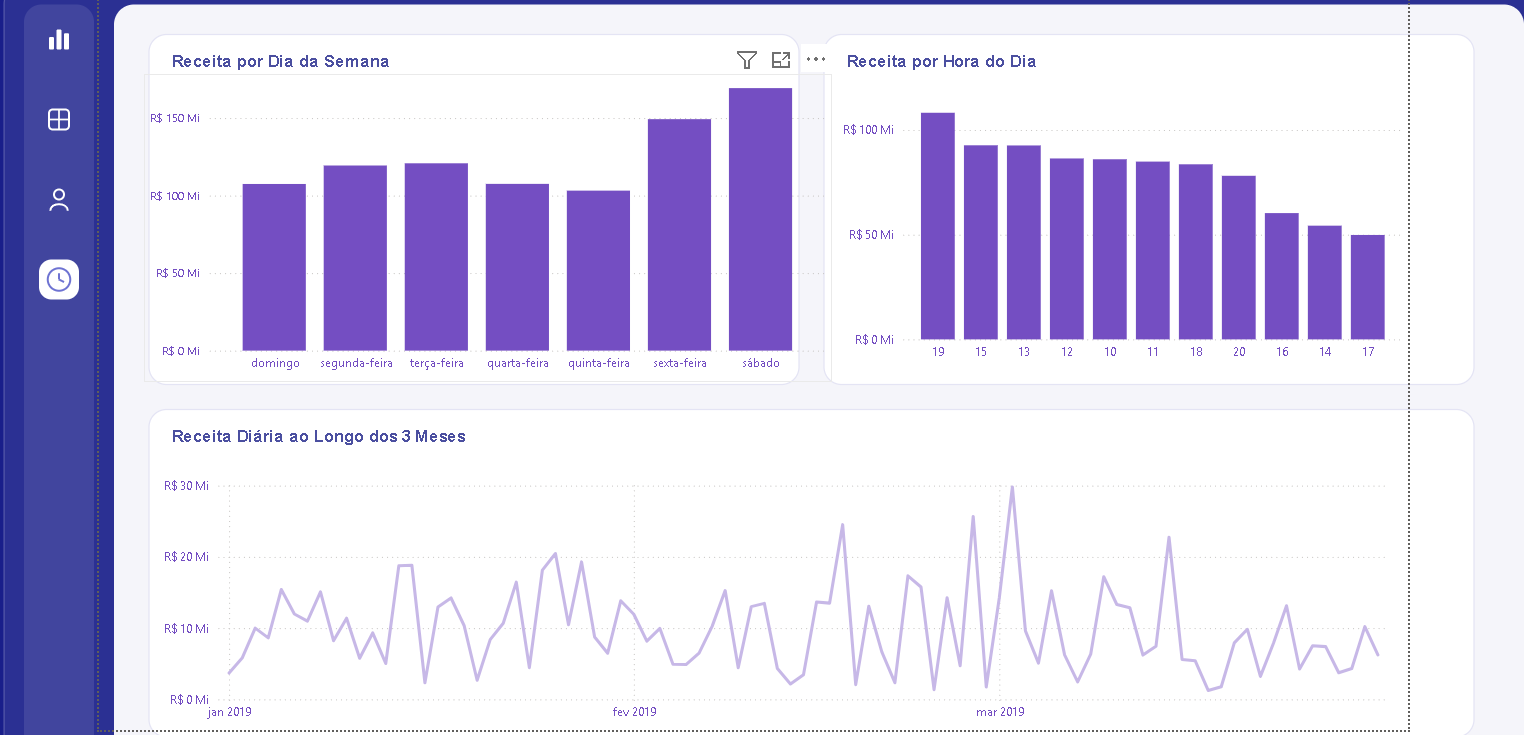

This screenshot's page, from the dashboard's own definition file:
{"tool":"powerbi","page":{"name":"Sazonalidade","canvas":[1280,720],"ordinal":3},"visuals":[{"type":"clusteredColumnChart","fields":{"Category":["SuperMarket Analysis.DiaSemana"],"Y":["Sum(SuperMarket Analysis.Sales)"]},"box":[44,78.3,672.6,300.8],"z":0},{"type":"clusteredColumnChart","fields":{"Category":["SuperMarket Analysis.Hora"],"Y":["Sum(SuperMarket Analysis.Sales)"]},"box":[721.5,78.3,558.8,289.8],"z":1000},{"type":"lineChart","fields":{"Category":["SuperMarket Analysis.Date.Variation.Hierarquia de datas.Ano","SuperMarket Analysis.Date.Variation.Hierarquia de datas.Trimestre","SuperMarket Analysis.Date.Variation.Hierarquia de datas.Mês","SuperMarket Analysis.Date.Variation.Hierarquia de datas.Dia"],"Y":["Sum(SuperMarket Analysis.Sales)"]},"box":[57.5,467.1,1222.8,253.1],"z":2000}]}

Visuals, with their boxes on the page's 1280x720 design canvas (x1, y1, x2, y2). These are canvas units, not pixel positions in the 1524x735 screenshot, which may show the page scaled, cropped or inside an application window:
clusteredColumnChart - SuperMarket Analysis.DiaSemana x Sum(SuperMarket Analysis.Sales): [left=44, top=78, right=717, bottom=379]
clusteredColumnChart - SuperMarket Analysis.Hora x Sum(SuperMarket Analysis.Sales): [left=722, top=78, right=1280, bottom=368]
lineChart - SuperMarket Analysis.Date.Variation.Hierarquia de datas.Ano x SuperMarket Analysis.Date.Variation.Hierarquia de datas.Trimestre: [left=58, top=467, right=1280, bottom=720]
